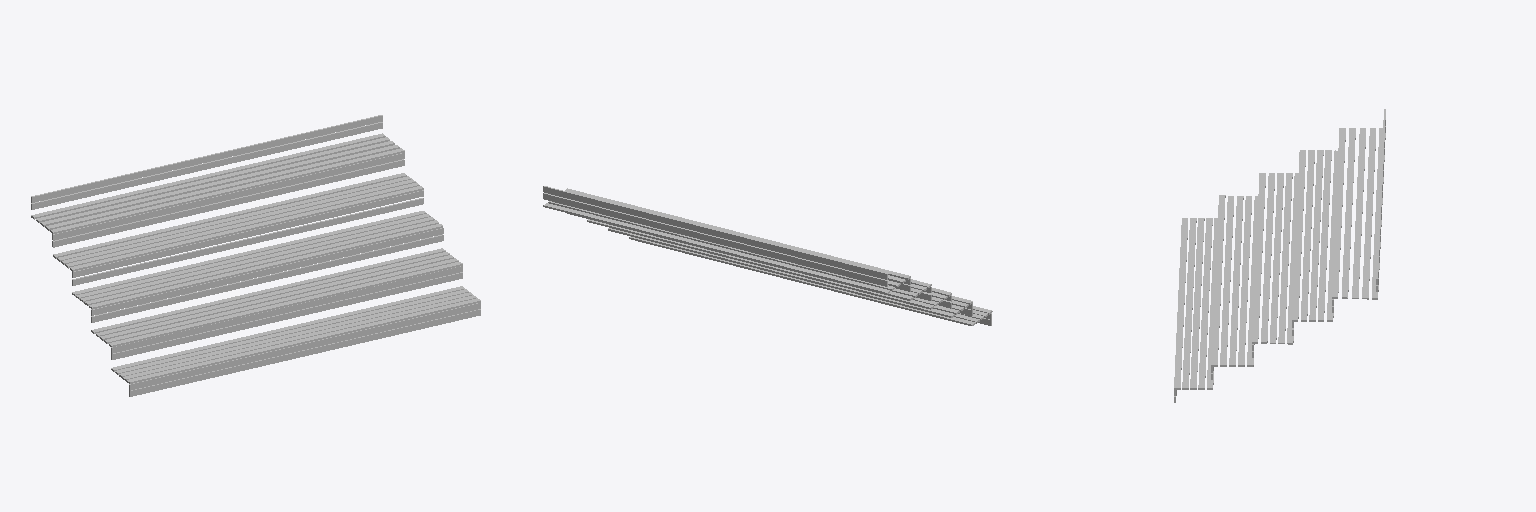
Rendered from Madeira_Bancos.obj.
3 views of the same model, side by side, from view 1: azimuth 30°, elevation 25°; view 2: azimuth 150°, elevation 25°; view 3: azimuth 270°, elevation 25° (orthographic).
Parts seen in each view (by area): view 1: Bancos; view 2: Bancos; view 3: Bancos.
Boxes of the visible parts, x1,y1,x2,y2 form: Bancos: [31, 115, 480, 396]; Bancos: [543, 186, 992, 325]; Bancos: [1174, 109, 1385, 402].
Bounding box in the file's own units: 4.4 × 1.5 × 2.3.